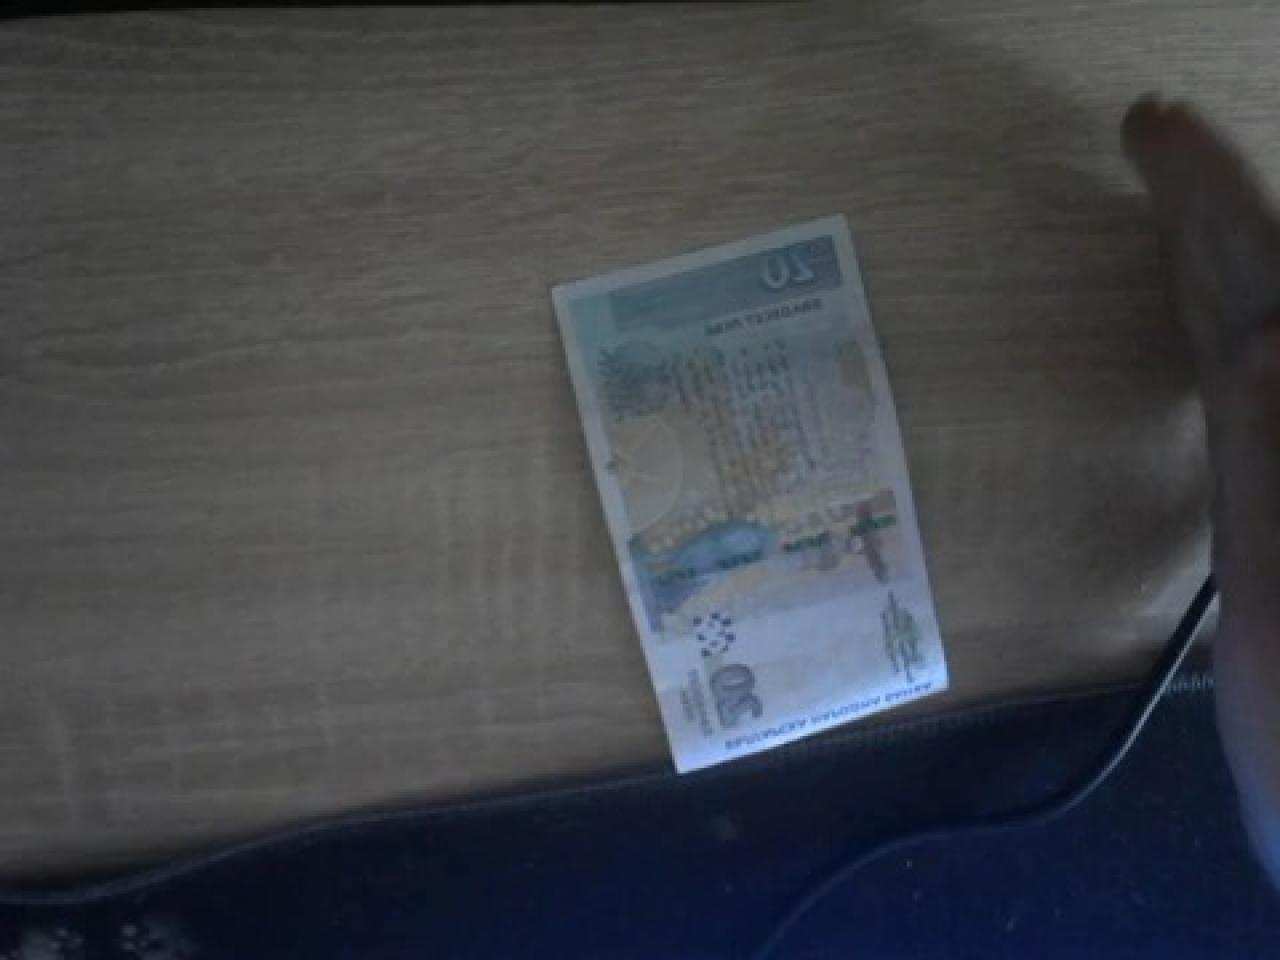20leva: (546, 214, 952, 770)
